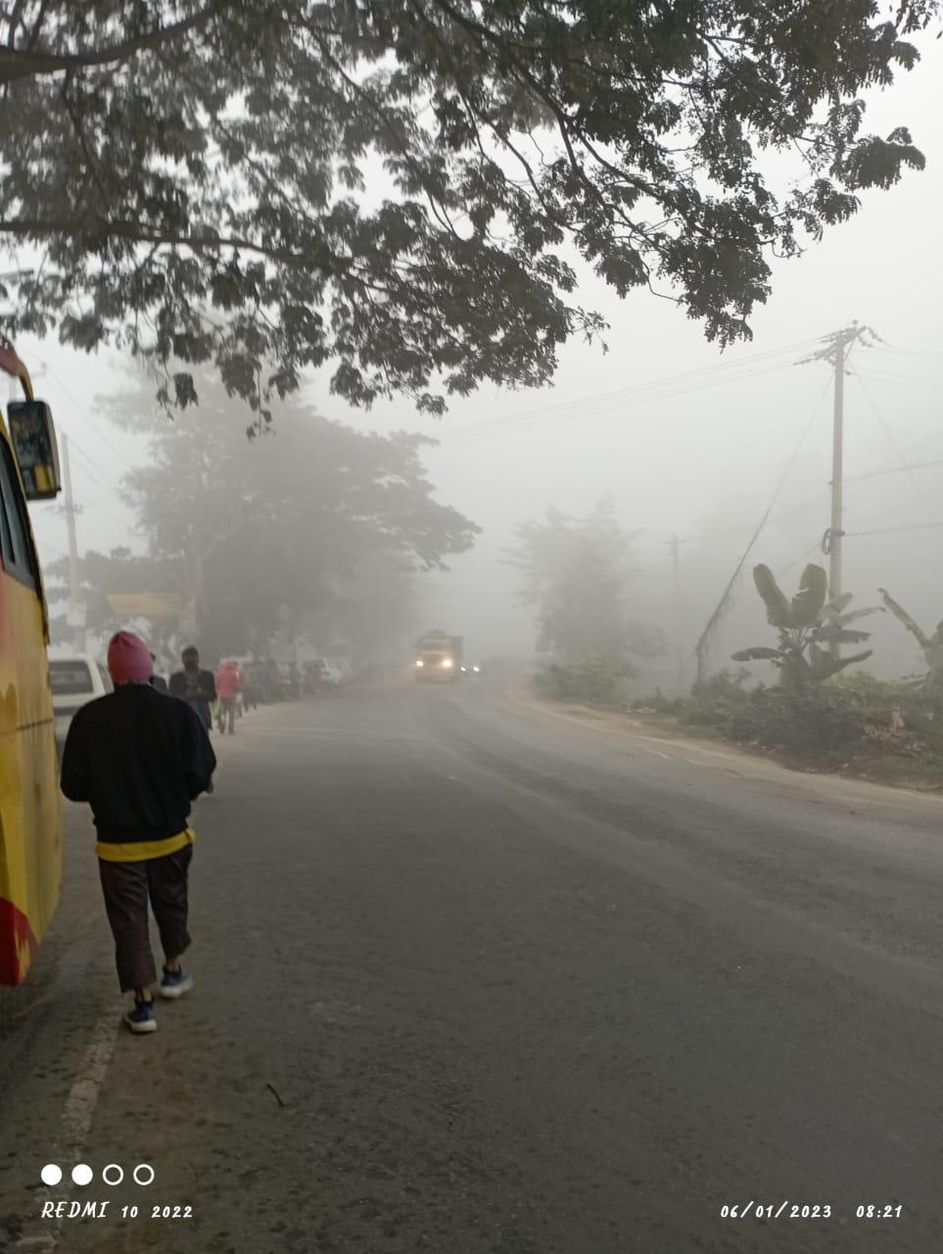Truck: (413, 626, 472, 683)
